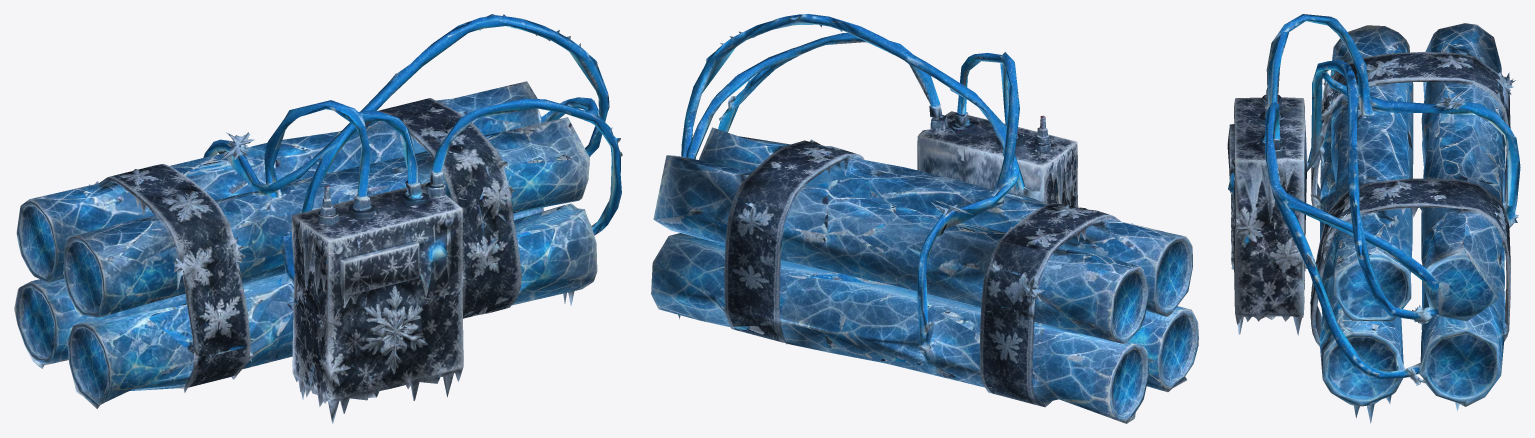
3 renders of one model, left to right at view 1: azimuth 30°, elevation 25°; view 2: azimuth 150°, elevation 25°; view 3: azimuth 270°, elevation 25°, orthographic. The views are drawn at different scales.
Size of the model in its own units: 1.9 by 1.1 by 0.963.
Materials: 1 (1 with a texture image).
